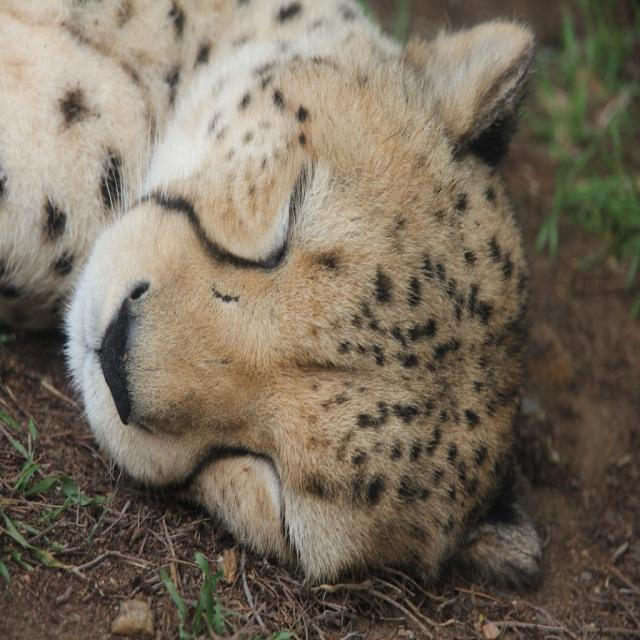Cheetah: (0, 0, 546, 590)
